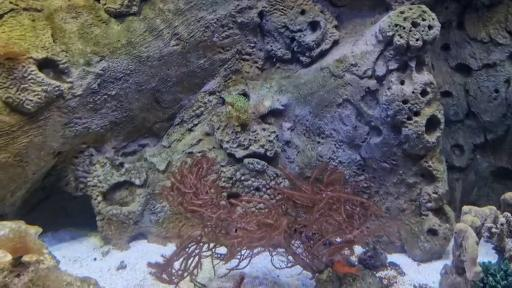Fish: (332, 260, 359, 274)
